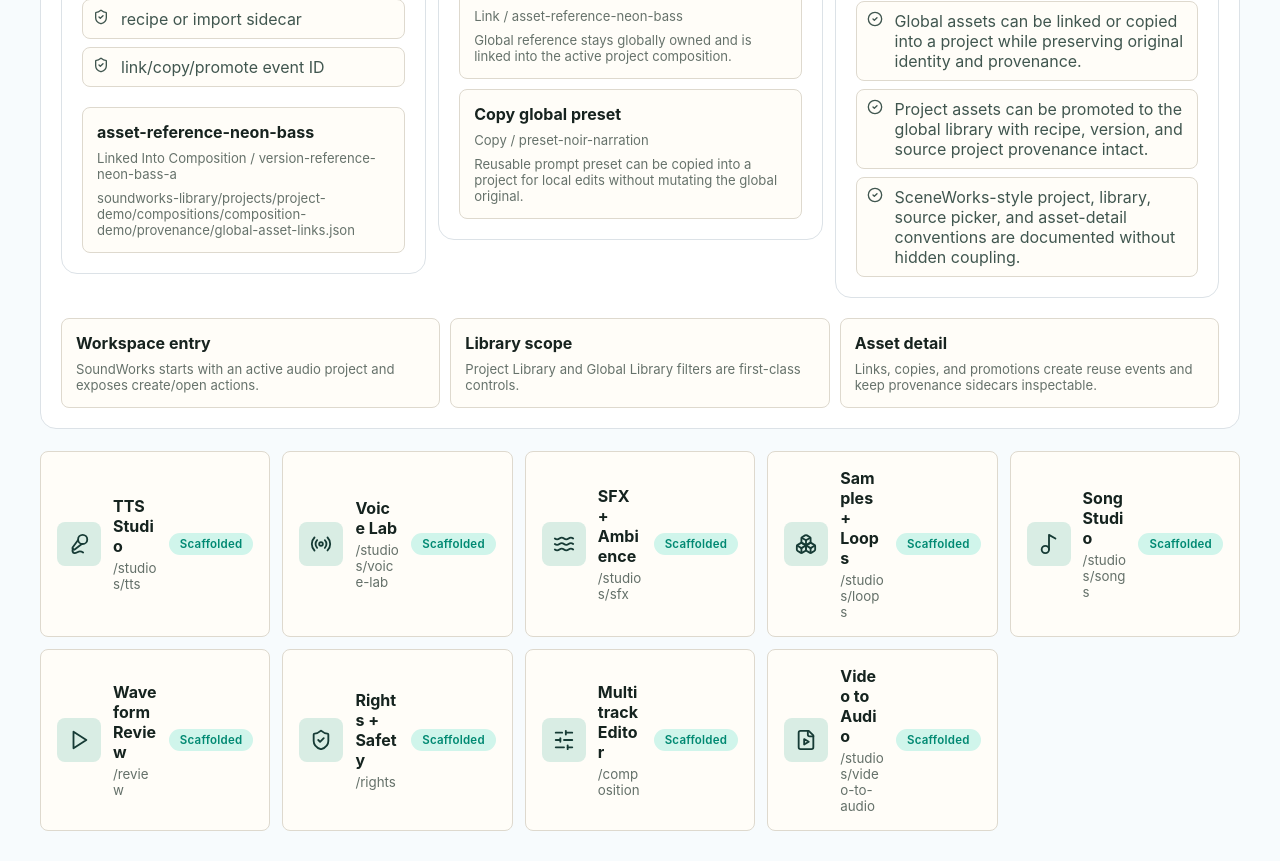
Test: App › deep-links studio cards to their view by id, not array position
(page scrolled)
Click the button "Multitrack Editor /composition scaffolded": (640, 740) [525, 649, 755, 831]
(page scrolled)
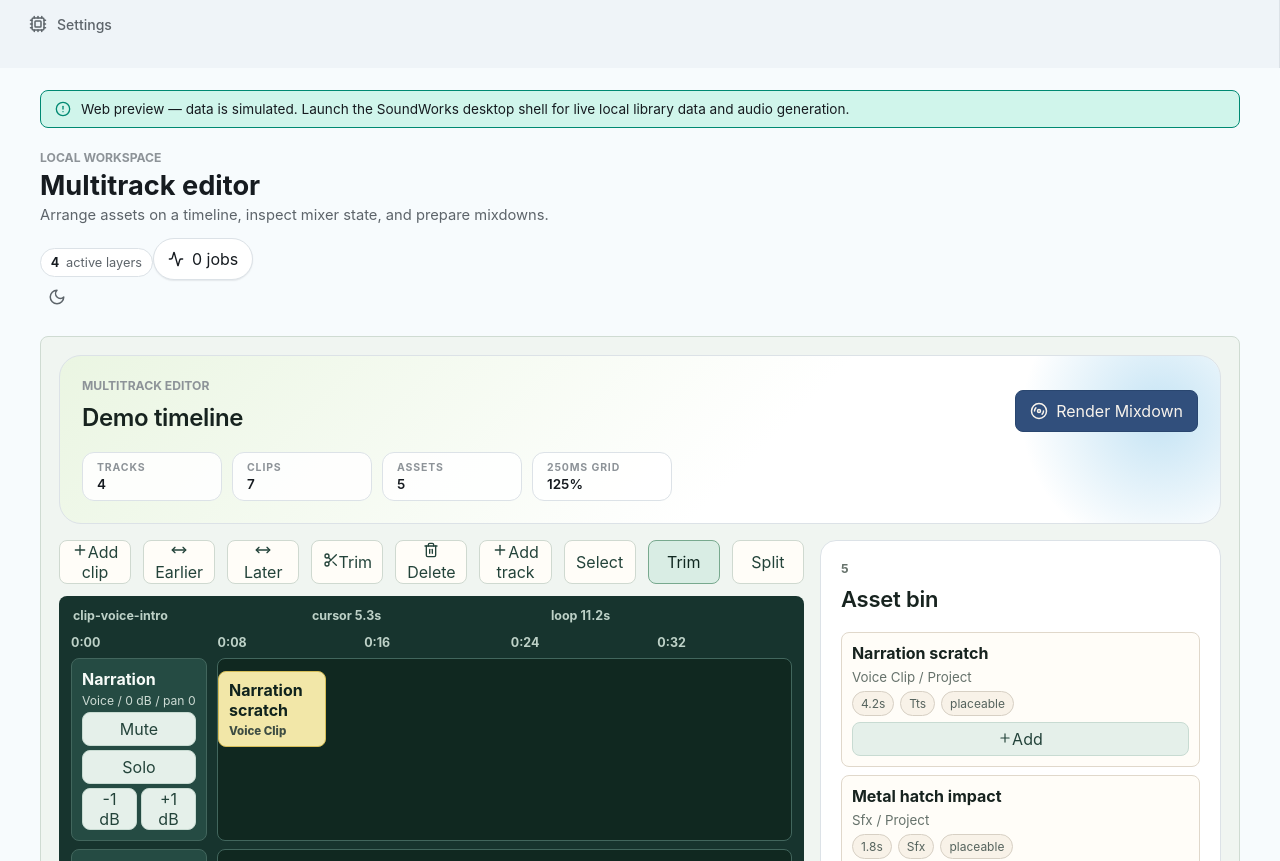
Result: the heading "Demo timeline" is shown at [82, 403, 243, 432]
